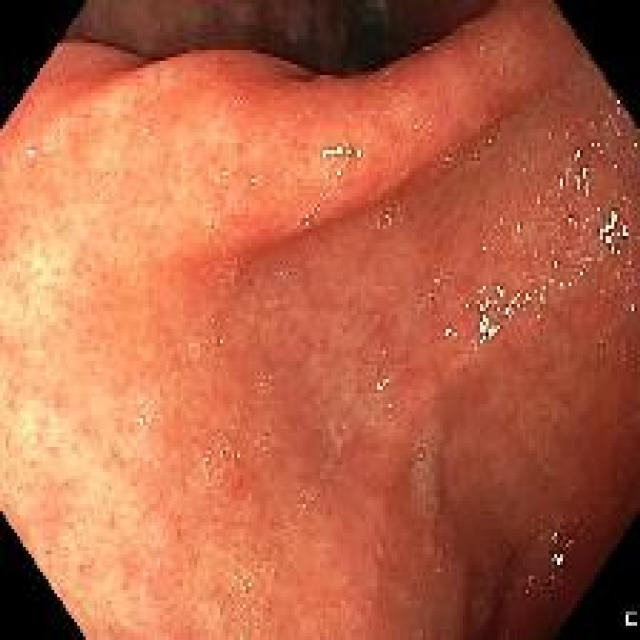bubbles: (213, 571, 267, 637), (436, 126, 507, 174), (191, 437, 248, 480), (297, 192, 333, 245), (408, 422, 433, 486), (216, 260, 250, 300), (416, 485, 444, 533), (373, 203, 400, 249), (296, 487, 320, 520), (202, 208, 218, 249), (500, 62, 520, 80), (282, 267, 297, 287), (256, 371, 272, 389), (332, 421, 347, 439), (282, 524, 296, 543), (261, 432, 272, 456), (404, 583, 416, 603), (136, 411, 151, 427), (212, 332, 225, 350), (233, 536, 245, 555), (349, 283, 360, 299), (231, 93, 243, 106), (564, 538, 575, 552), (330, 445, 340, 460), (141, 125, 152, 137), (499, 40, 511, 51), (538, 533, 546, 549)
contrast: (172, 6, 518, 77)
saturation: (0, 218, 89, 572)
specularity: (473, 281, 551, 347), (597, 204, 630, 260), (566, 147, 593, 198), (321, 138, 366, 160), (425, 274, 443, 301), (442, 325, 458, 342), (524, 575, 535, 598), (374, 375, 388, 393), (22, 142, 36, 159), (578, 260, 589, 280), (565, 214, 576, 233), (552, 550, 565, 566), (556, 175, 564, 199), (46, 129, 55, 143), (479, 242, 489, 254), (138, 413, 148, 424), (219, 168, 230, 178), (334, 166, 343, 178), (249, 175, 259, 185), (547, 572, 557, 582), (550, 530, 558, 542), (551, 258, 558, 271), (587, 140, 597, 149), (324, 169, 332, 180), (463, 302, 471, 312), (386, 399, 392, 412), (516, 221, 522, 234), (566, 280, 572, 290), (235, 451, 240, 460), (223, 446, 228, 452)
